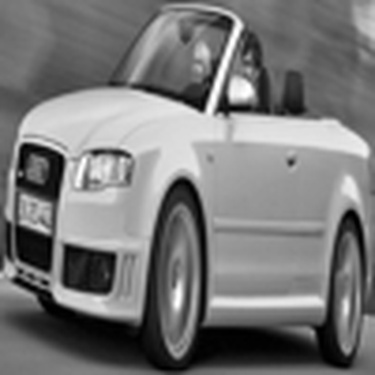car: (12, 11, 366, 352)
